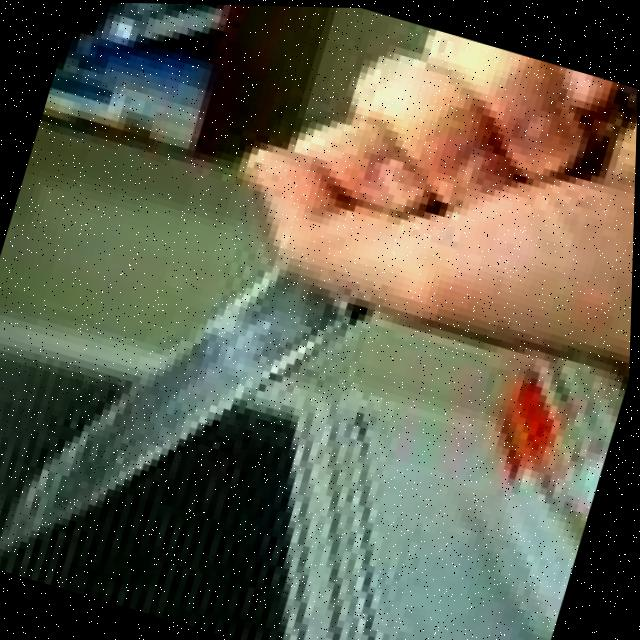knife: (0, 210, 382, 640)
